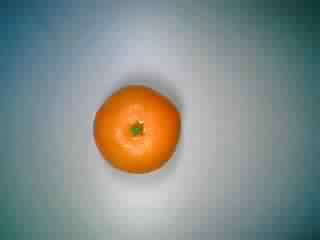orange: (88, 81, 183, 175)
